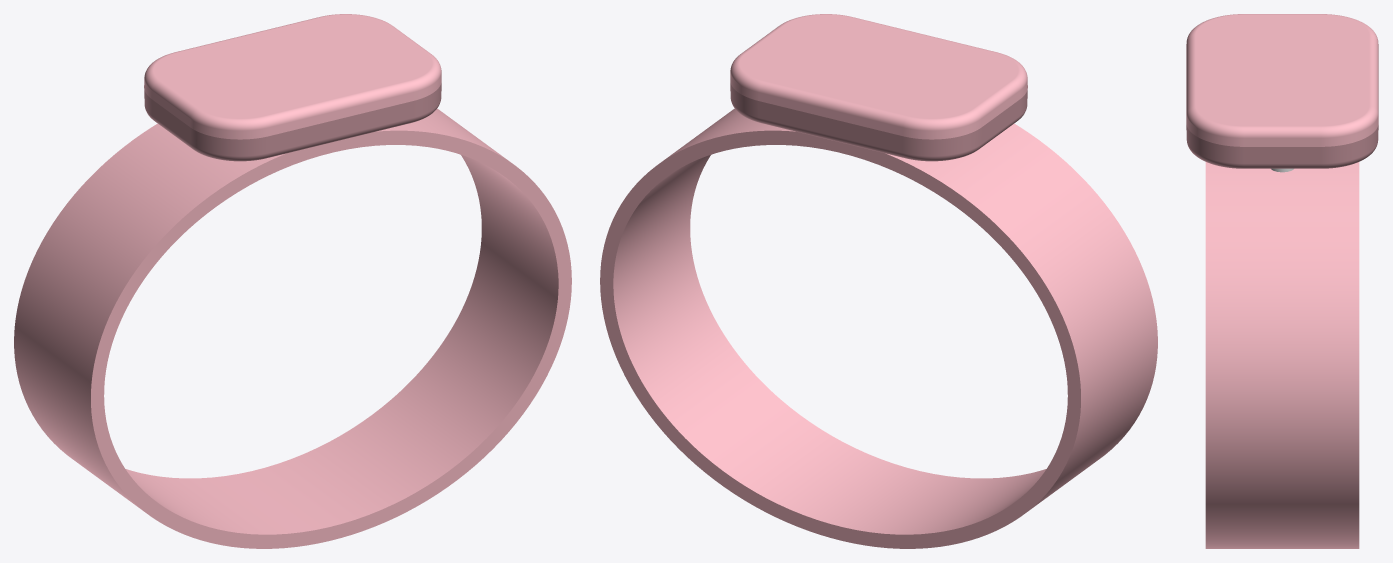
3 views of the same model, side by side, from view 1: azimuth 30°, elevation 25°; view 2: azimuth 150°, elevation 25°; view 3: azimuth 270°, elevation 25° (orthographic).
Visible parts, largest first — view 1: strap.1, body.1, accent.1; view 2: strap.1, body.1, accent.1; view 3: strap.1, body.1, accent.1.
Boxes of the visible parts, x1,y1,x2,y2 form: strap.1: (14,108,571,548); body.1: (144,14,441,139); accent.1: (144,83,441,161); strap.1: (600,108,1157,548); body.1: (730,14,1027,139); accent.1: (730,83,1027,161); strap.1: (1205,162,1359,548); body.1: (1186,14,1378,146); accent.1: (1186,125,1378,168).
Size of the model in its own units: 0.0868 by 0.0768 by 0.03.
